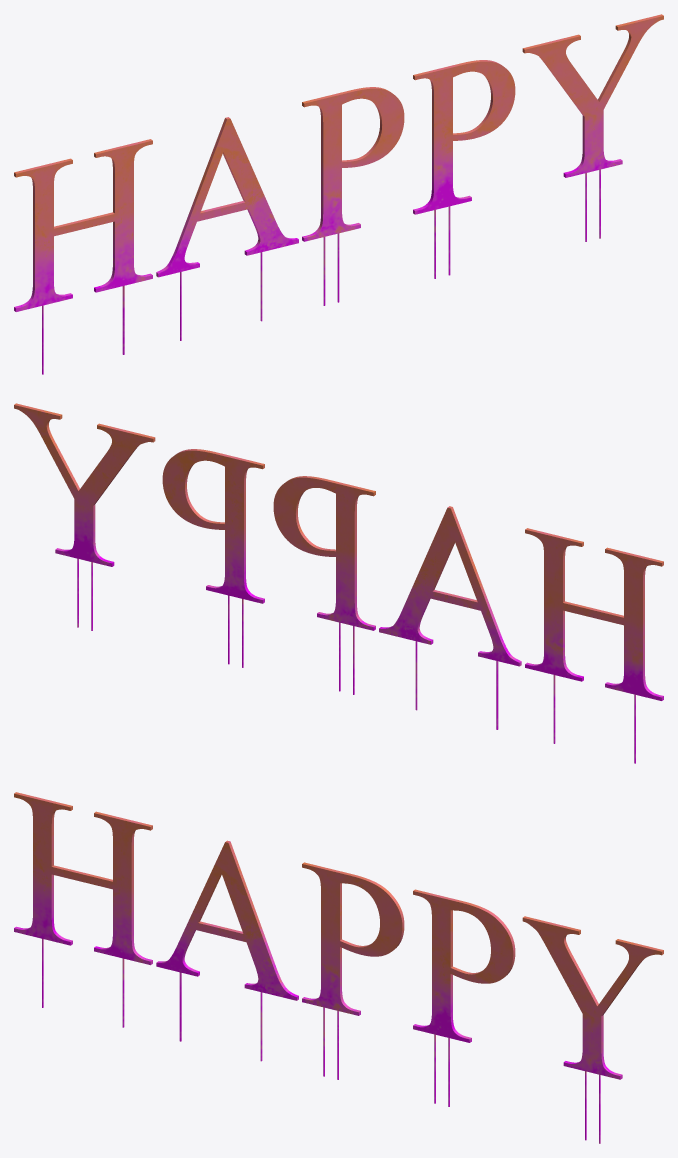
Rendered from Happy_Sign.fbx.
3 renders of one model, top to bottom at view 1: azimuth 30°, elevation 25°; view 2: azimuth 150°, elevation 25°; view 3: azimuth 330°, elevation 25°, orthographic.
Parts seen in each view (by area): view 1: C_HappySign; view 2: C_HappySign; view 3: C_HappySign.
Part boxes in pixels (x1=…): C_HappySign: x1=14, y1=14, x2=663, y2=374; C_HappySign: x1=14, y1=403, x2=663, y2=763; C_HappySign: x1=14, y1=792, x2=663, y2=1143.
Bounding box in the file's own units: 70.43 × 0.3937 × 21.91.
